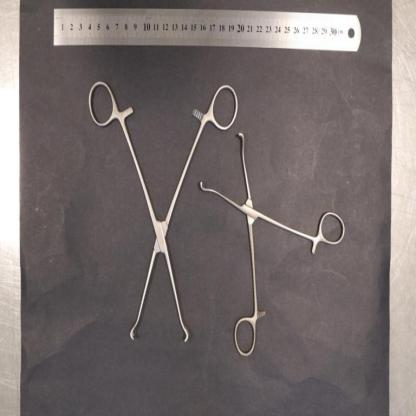8 Babcock Tissue Forceps: (88, 80, 240, 347)
Babcock Tissue Forceps: (199, 129, 345, 357)
